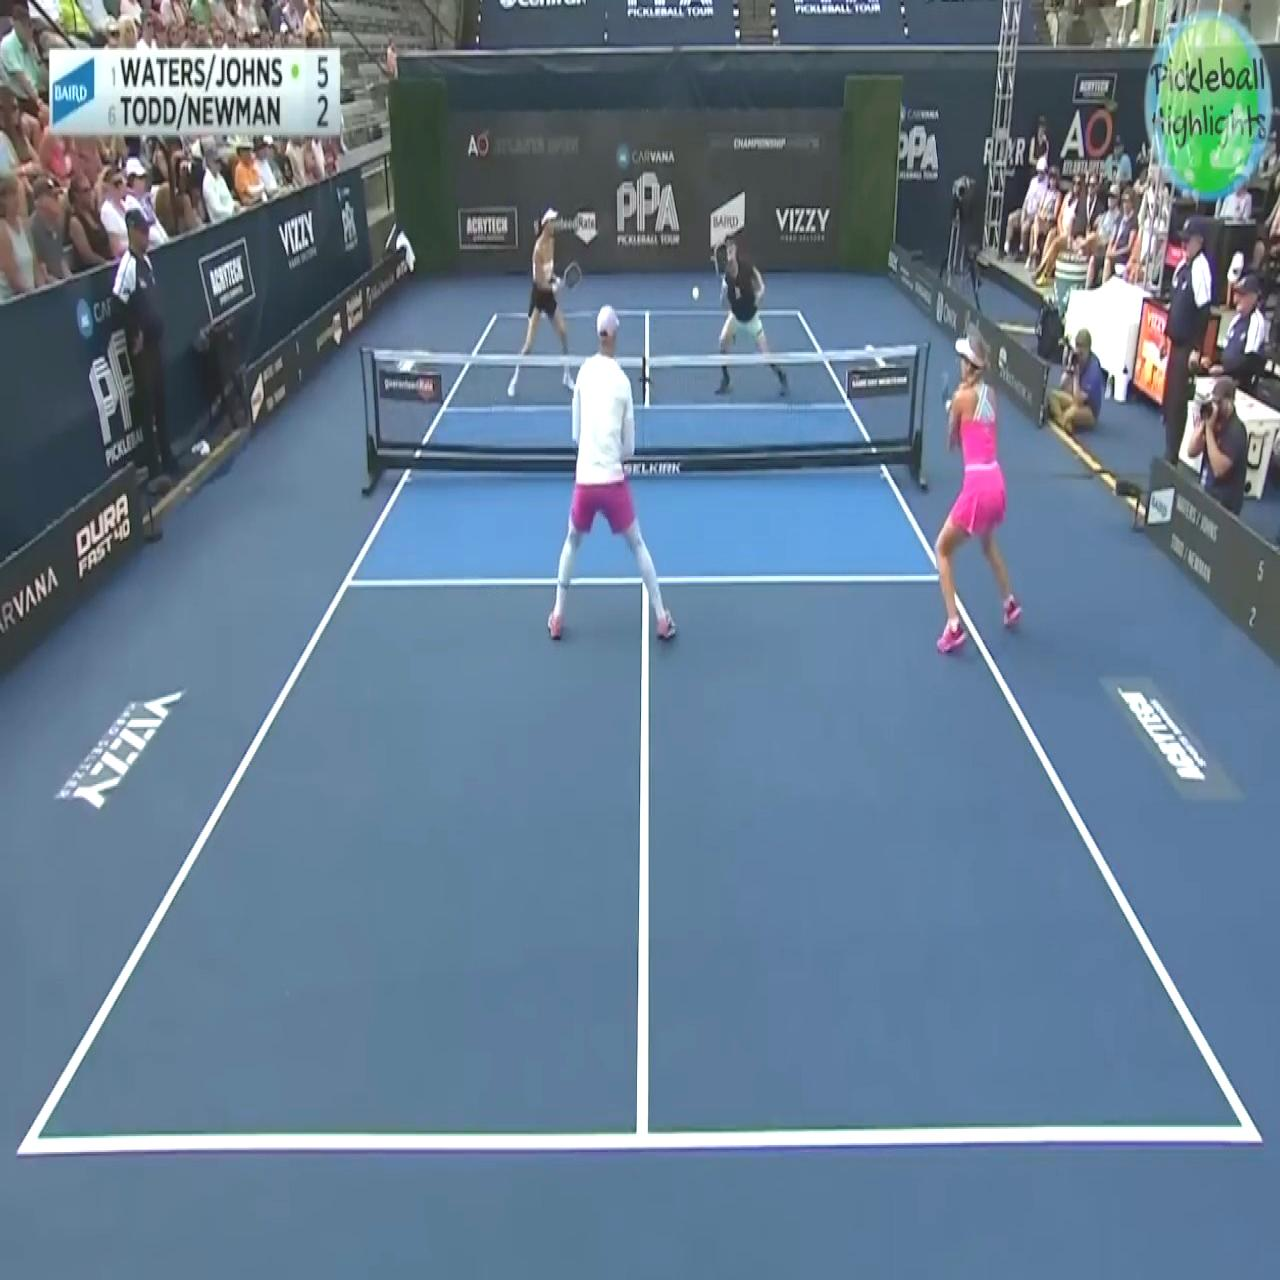Pickleball: (689, 281, 701, 304)
